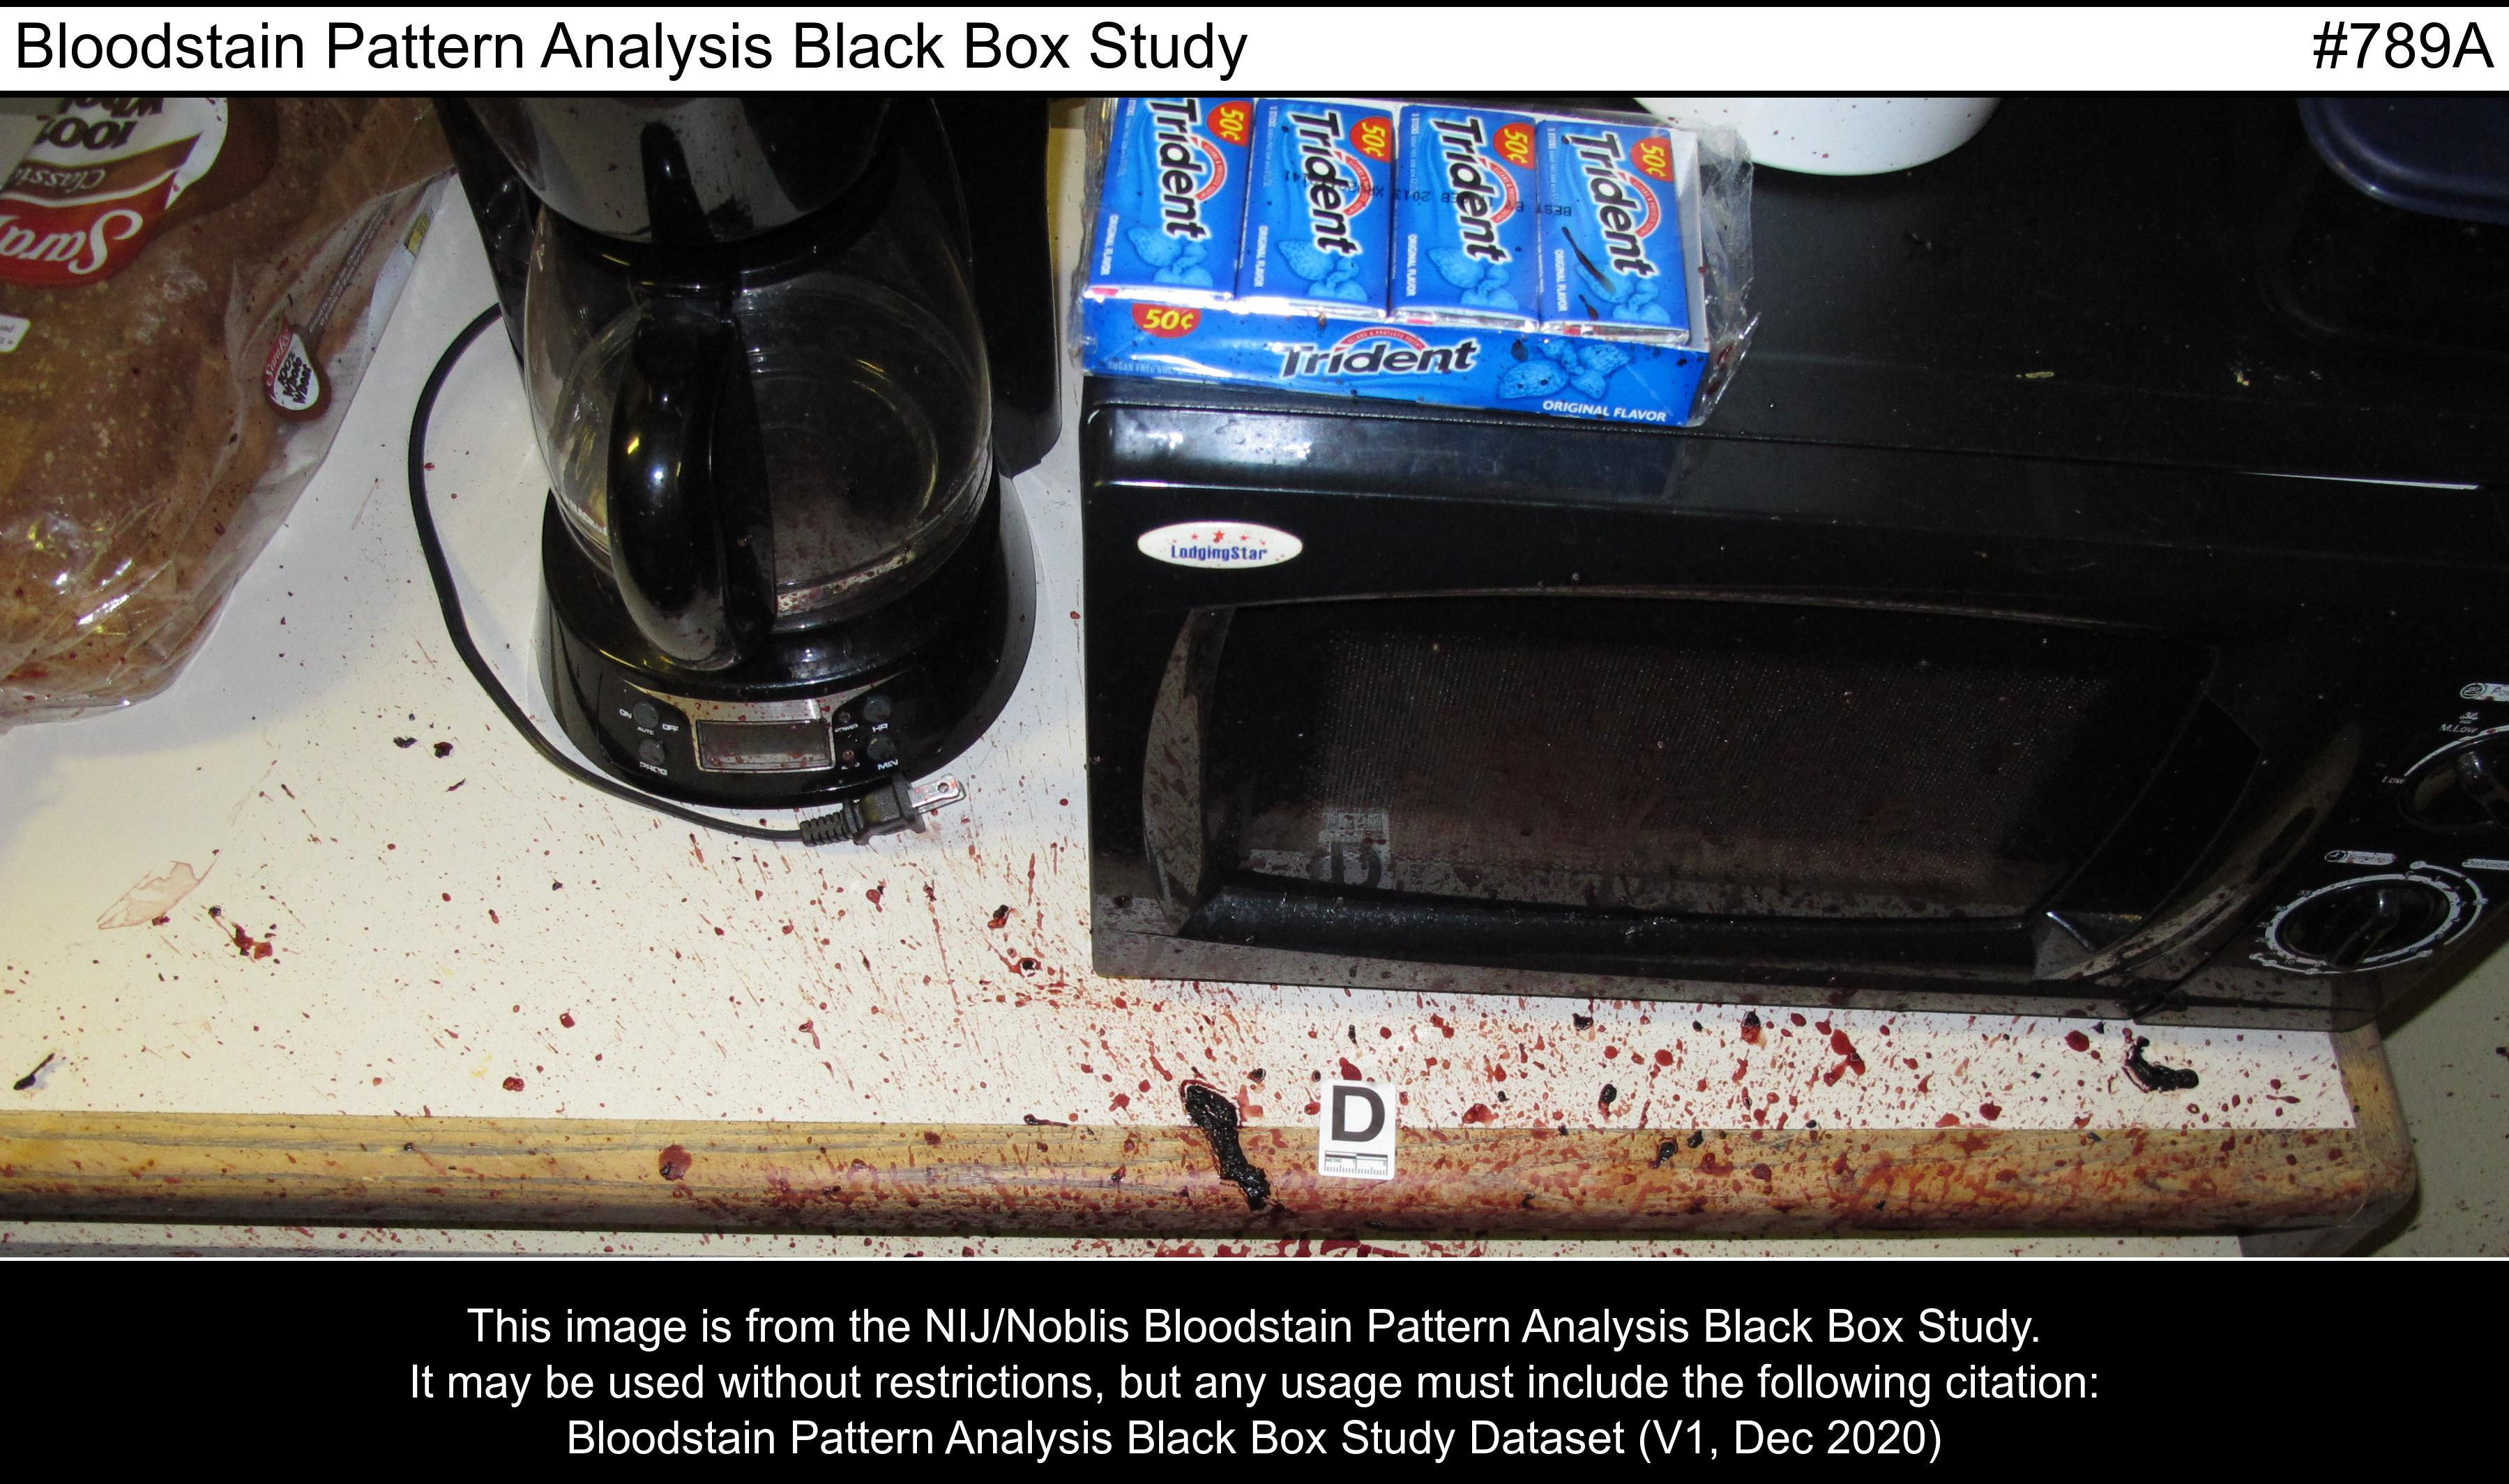Impact: (185, 860, 2407, 1212)
